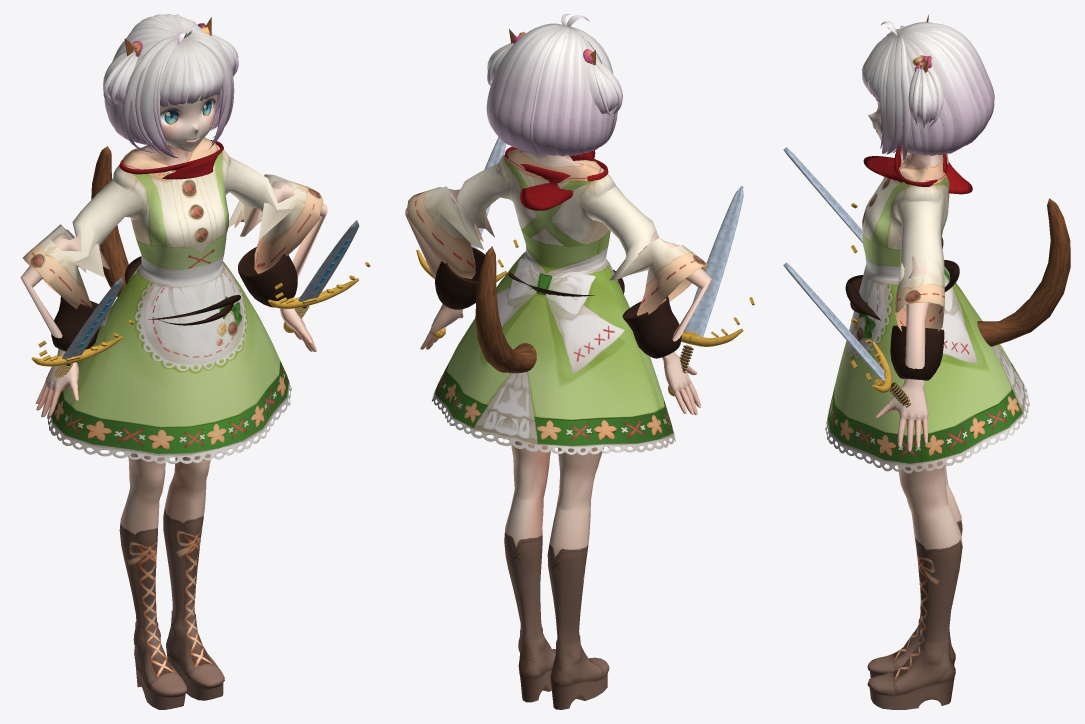
Rendered from chr_ally_lyra_beastkin_rogue.glb.
The picture shows the model from 3 angles, left to right: view 1: azimuth 30°, elevation 25°; view 2: azimuth 150°, elevation 25°; view 3: azimuth 270°, elevation 25°; orthographic projection.
Visible parts, largest first — view 1: torso_Tops01CLOTH, cloak_Tops01CLOTH, head_00HAIR01, shin_l_Body00SKIN, shin_r_Body00SKIN, forearm_l_Tops01CLOTH, cloak_00HAIR02, arm_r_Tops01CLOTH, shin_l_Shoes01CLOTH, shin_r_Shoes01CLOTH, forearm_r_Tops01CLOTH, forearm_r_Body00SKIN (+16 smaller); view 2: torso_Tops01CLOTH, cloak_Tops01CLOTH, head_00HAIR01, shin_r_Body00SKIN, shin_l_Body00SKIN, forearm_l_Tops01CLOTH, forearm_r_Tops01CLOTH, tail_fur, shin_r_Shoes01CLOTH, arm_r_Tops01CLOTH, weapon_r_dagger0, forearm_r_bracer (+10 smaller); view 3: cloak_Tops01CLOTH, torso_Tops01CLOTH, head_00HAIR01, shin_l_Body00SKIN, shin_l_Shoes01CLOTH, tail_fur, forearm_l_Body00SKIN, arm_l_Tops01CLOTH, forearm_l_Tops01CLOTH, cloak_00HAIR02, forearm_l_bracer, torso_scarf (+7 smaller).
Boxes of the visible parts, x1,y1,x2,y2 form: torso_Tops01CLOTH: [83, 137, 265, 386]; cloak_Tops01CLOTH: [47, 327, 291, 463]; head_00HAIR01: [104, 14, 233, 139]; shin_l_Body00SKIN: [163, 468, 206, 619]; shin_r_Body00SKIN: [119, 474, 163, 628]; forearm_l_Tops01CLOTH: [228, 174, 323, 273]; cloak_00HAIR02: [103, 30, 238, 106]; arm_r_Tops01CLOTH: [72, 178, 147, 277]; shin_l_Shoes01CLOTH: [166, 610, 224, 700]; shin_r_Shoes01CLOTH: [133, 621, 187, 709]; forearm_r_Tops01CLOTH: [23, 224, 104, 309]; forearm_r_Body00SKIN: [20, 229, 81, 417]; torso_Tops01CLOTH: [468, 148, 649, 377]; cloak_Tops01CLOTH: [431, 322, 675, 455]; head_00HAIR01: [486, 23, 617, 154]; shin_r_Body00SKIN: [547, 478, 593, 644]; shin_l_Body00SKIN: [504, 467, 548, 635]; forearm_l_Tops01CLOTH: [407, 186, 485, 278]; forearm_r_Tops01CLOTH: [609, 227, 707, 315]; tail_fur: [475, 246, 536, 373]; shin_r_Shoes01CLOTH: [550, 635, 609, 709]; arm_r_Tops01CLOTH: [580, 183, 658, 260]; weapon_r_dagger0: [683, 185, 743, 336]; forearm_r_bracer: [622, 296, 681, 358]; cloak_Tops01CLOTH: [825, 320, 1029, 473]; torso_Tops01CLOTH: [843, 150, 991, 389]; head_00HAIR01: [879, 22, 994, 153]; shin_l_Body00SKIN: [905, 481, 962, 642]; shin_l_Shoes01CLOTH: [867, 636, 955, 709]; tail_fur: [977, 198, 1070, 346]; forearm_l_Body00SKIN: [875, 263, 929, 451]; arm_l_Tops01CLOTH: [892, 193, 944, 276]; forearm_l_Tops01CLOTH: [894, 251, 944, 331]; cloak_00HAIR02: [862, 21, 943, 128]; forearm_l_bracer: [890, 325, 944, 380]; torso_scarf: [863, 145, 972, 194].
Size of the model in its own units: 0.8499 by 1.64 by 0.6392.
30 materials, 30 textured.
